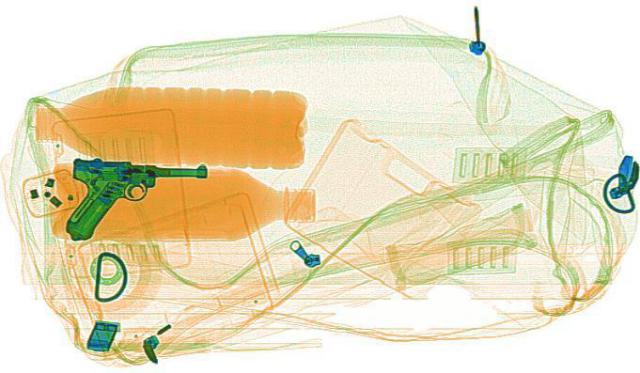Gun: (41, 150, 213, 251)
